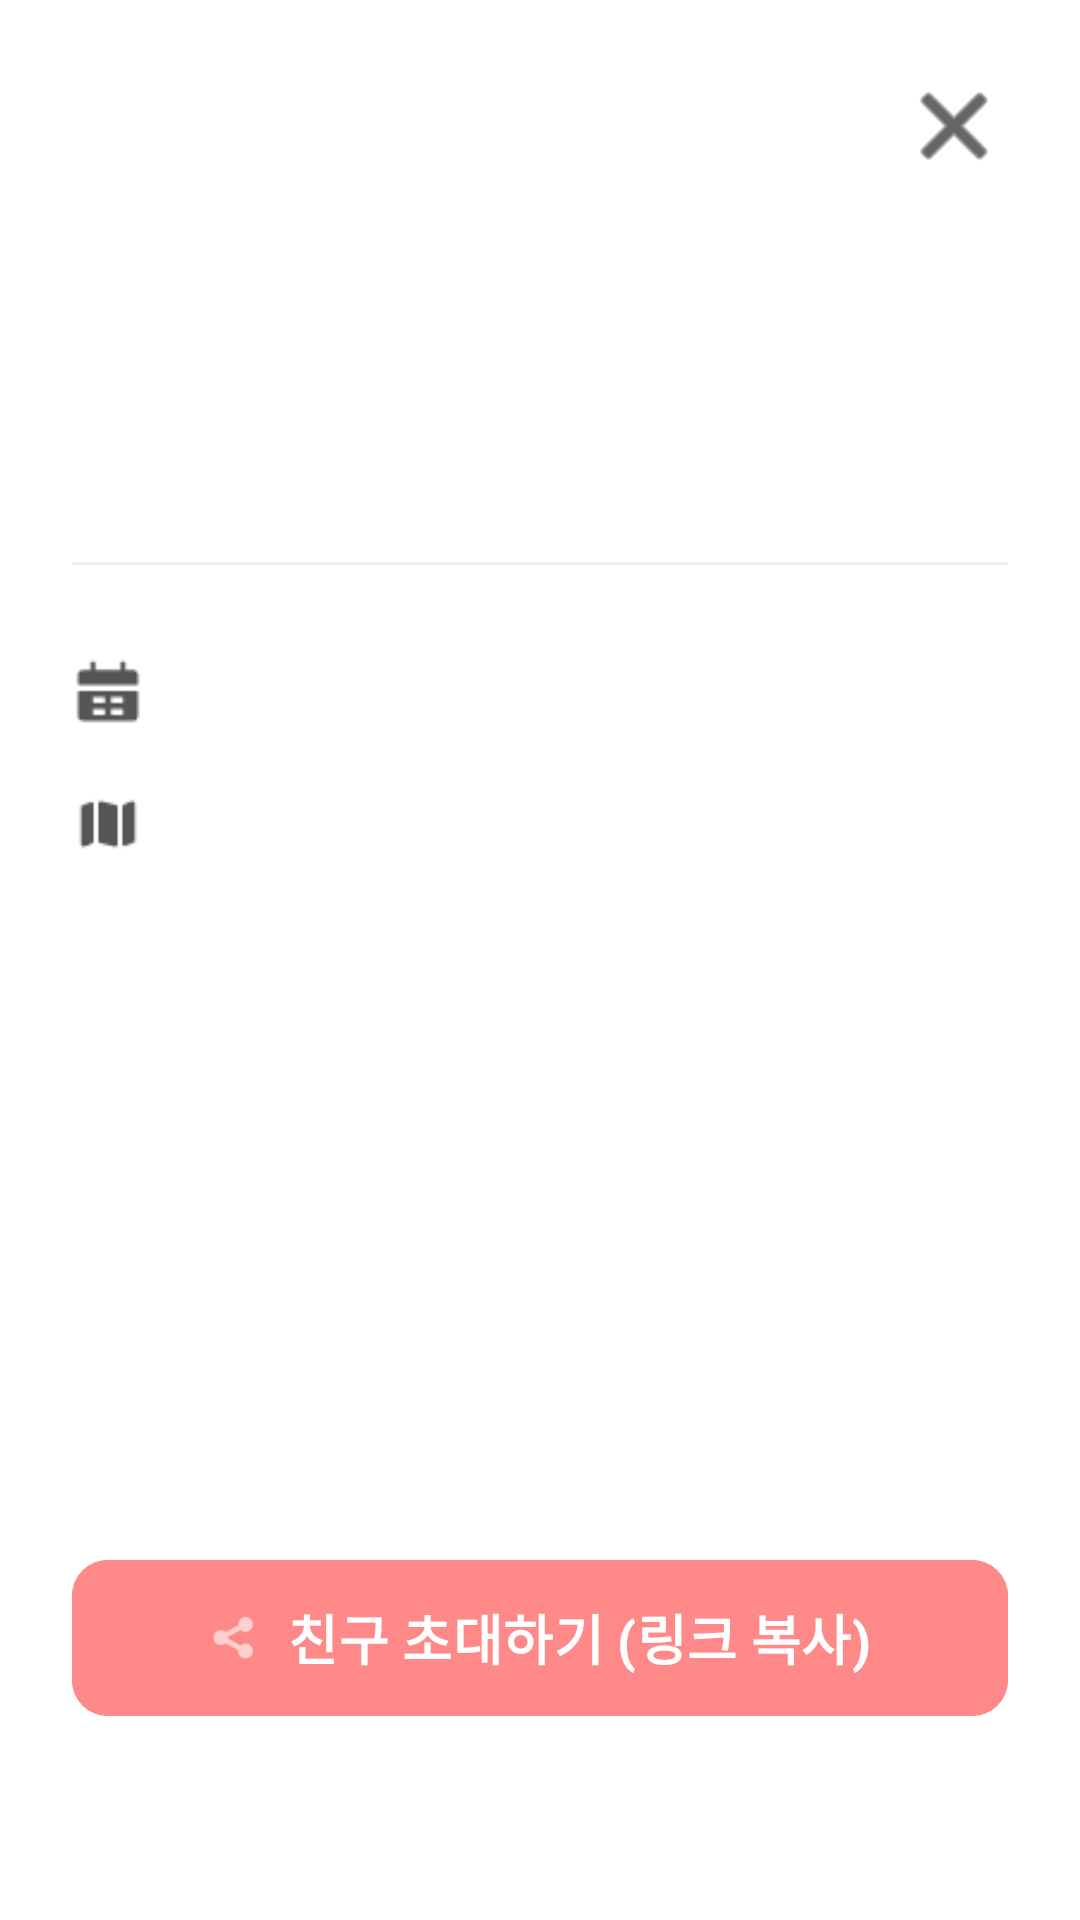

Where to tap for icons on this 1080×1920 app screen, as (x,y):
calendar: (108,691)
close clear cancel: (954,126)
location: (108,824)
